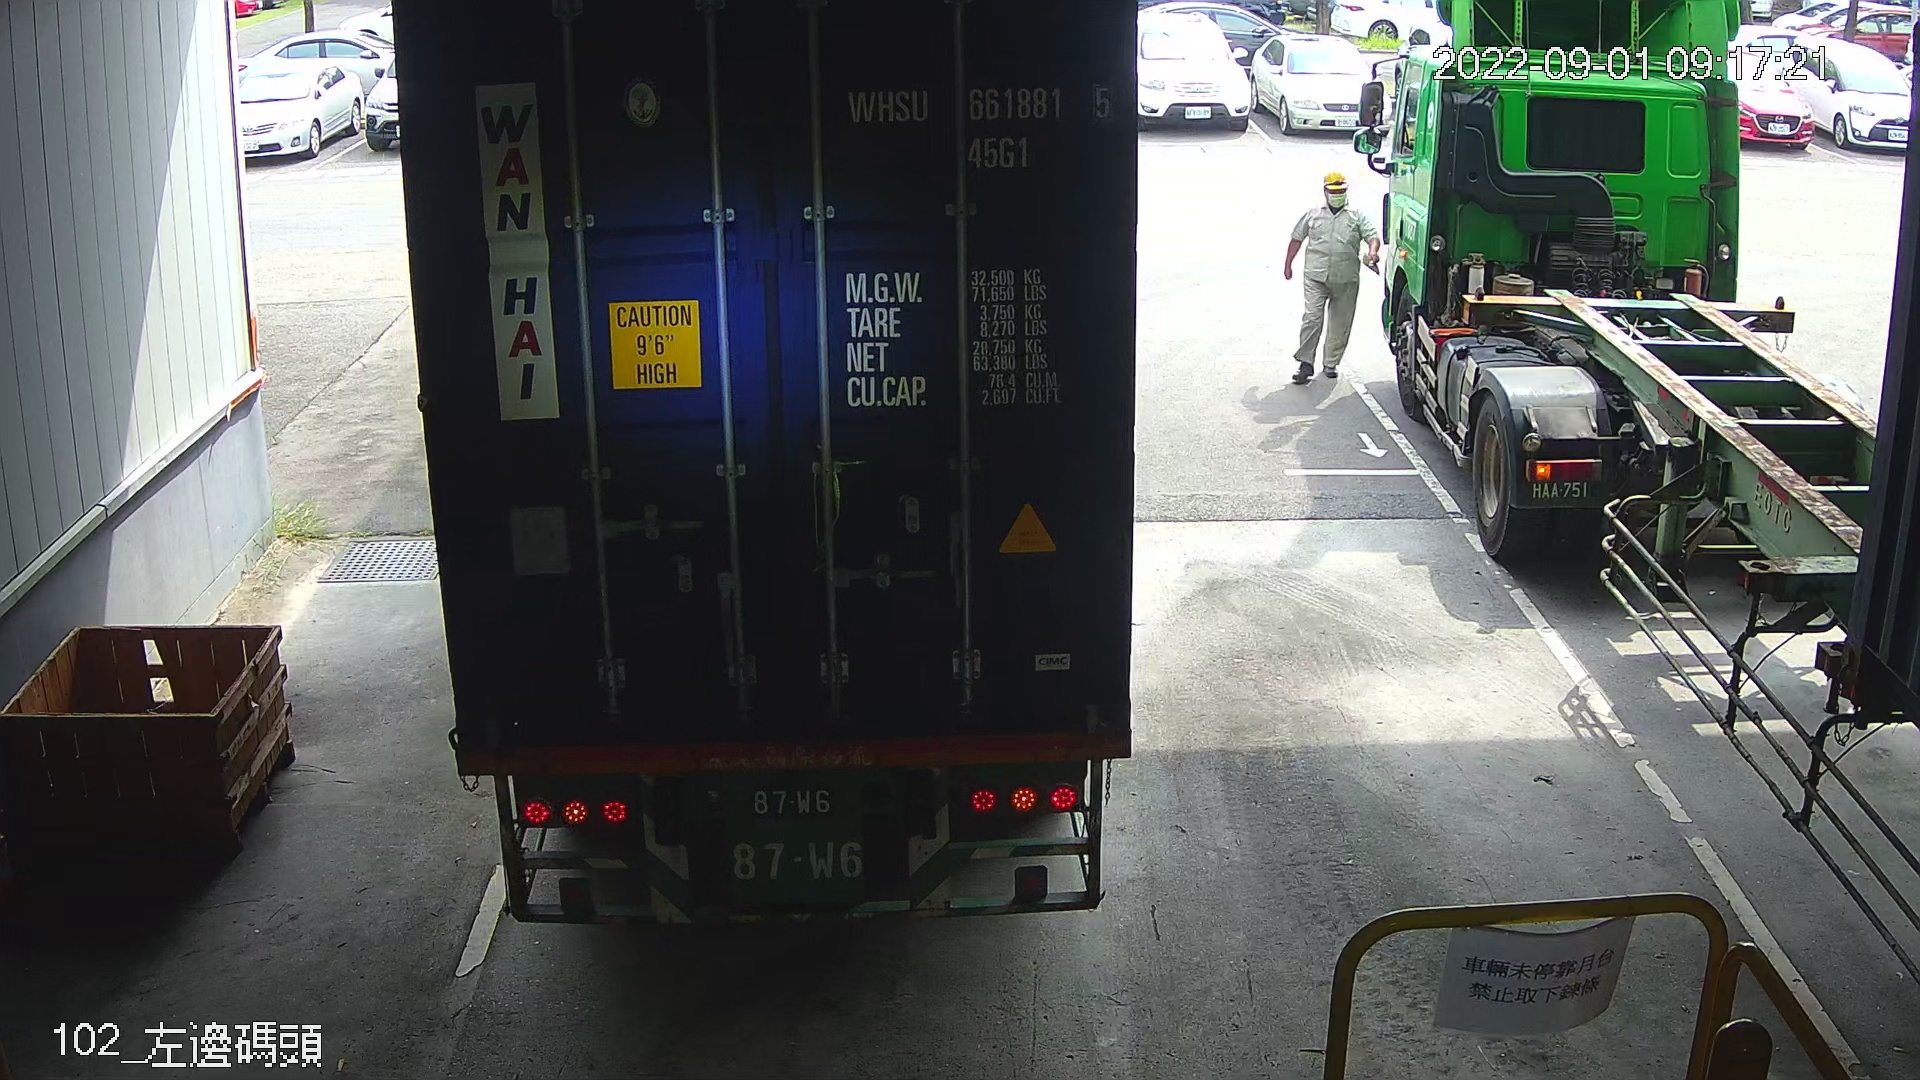container: (835, 73, 1126, 183)
